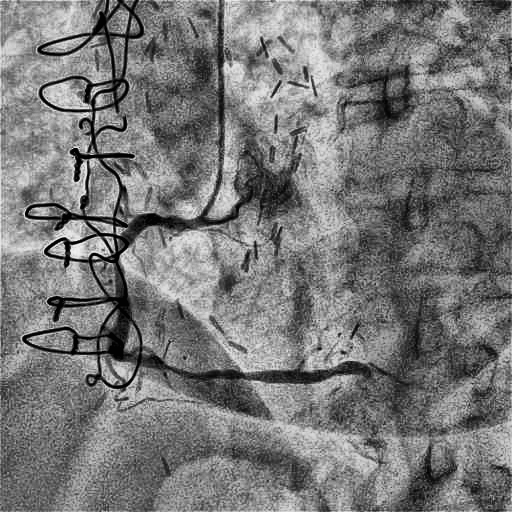pda: (299, 361, 370, 384)
rca: (108, 213, 299, 383)
